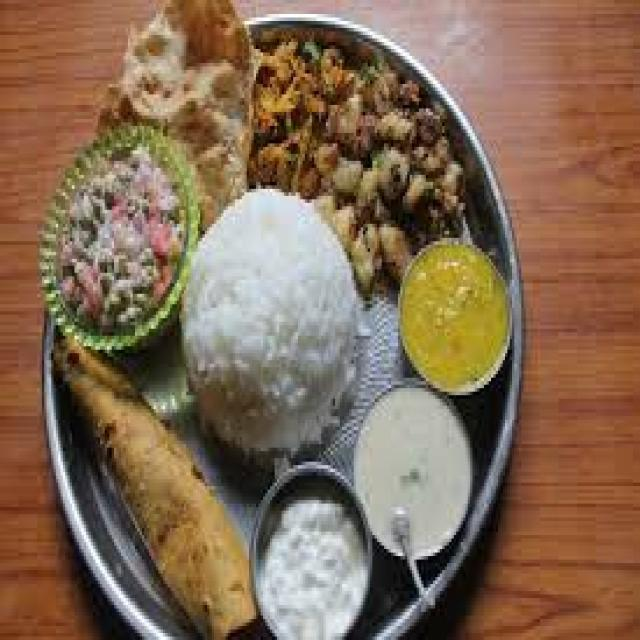curd: (352, 381, 491, 566), (252, 493, 371, 640)
dal: (401, 236, 515, 379)
rice: (183, 184, 357, 452)
roti: (123, 12, 249, 185)
veg-fry: (249, 29, 448, 242)
